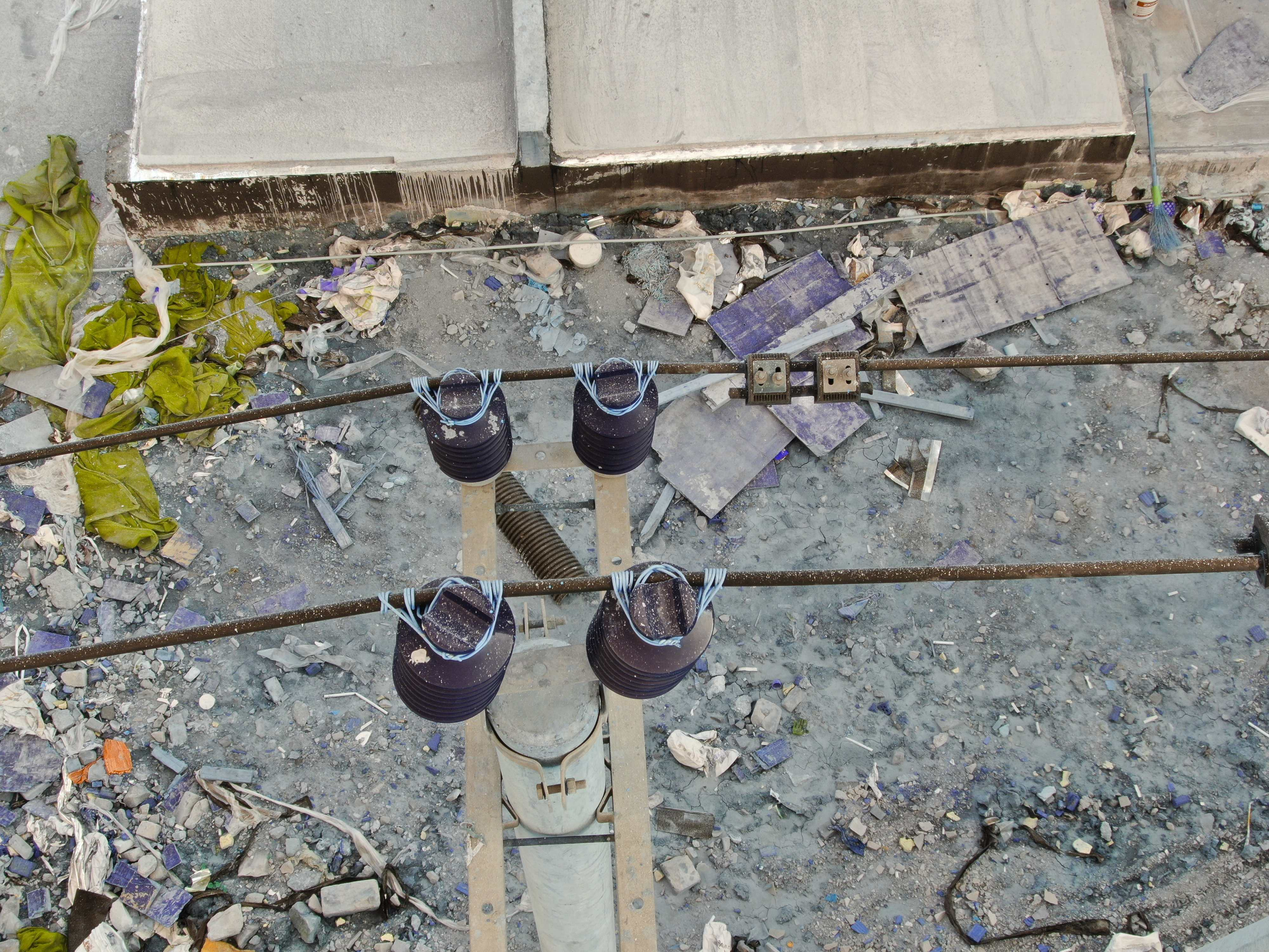severe_soiling_no_discharge_whole: (581, 558, 724, 707), (381, 573, 518, 724), (563, 353, 666, 482), (417, 364, 512, 484)
